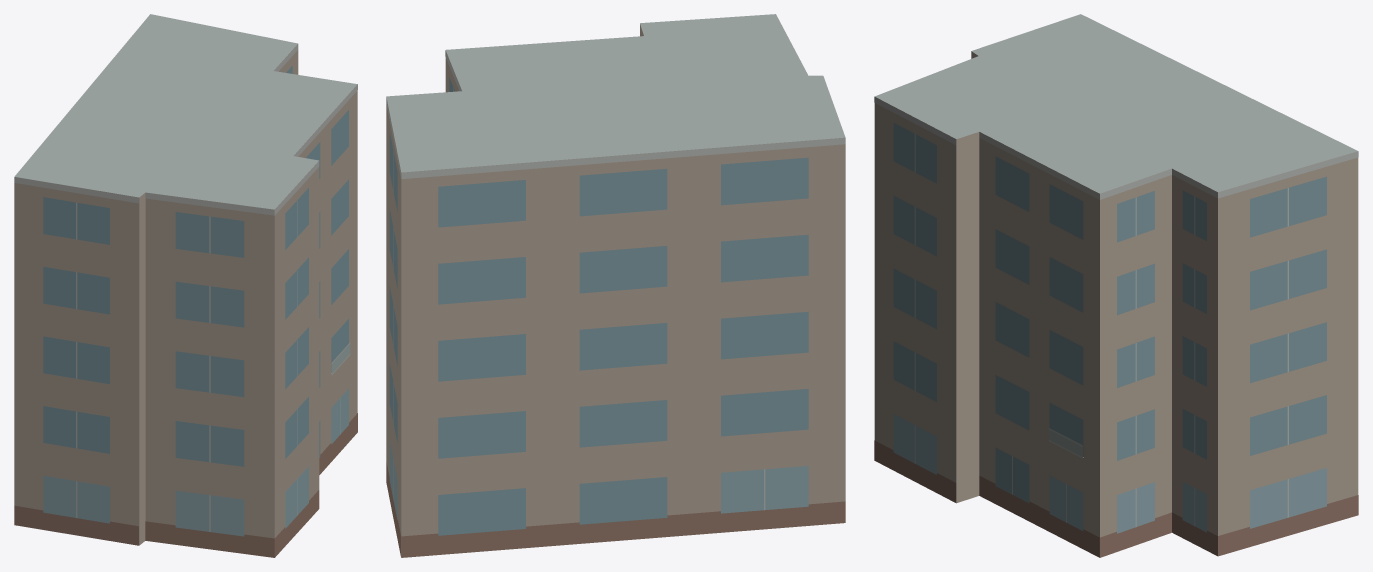
Rendered from survey-upis-32991332.glb.
3 views of the same model, side by side, from view 1: azimuth 30°, elevation 25°; view 2: azimuth 150°, elevation 25°; view 3: azimuth 270°, elevation 25° (orthographic). The views are drawn at different scales.
Visible parts, largest first — view 1: survey-upis-32991332.tmp; view 2: survey-upis-32991332.tmp; view 3: survey-upis-32991332.tmp.
Boxes of the visible parts, x1,y1,x2,y2 form: survey-upis-32991332.tmp: (14,14,357,557); survey-upis-32991332.tmp: (386,14,845,557); survey-upis-32991332.tmp: (874,14,1358,557).
Size of the model in its own units: 15.05 by 14.2 by 17.12.
